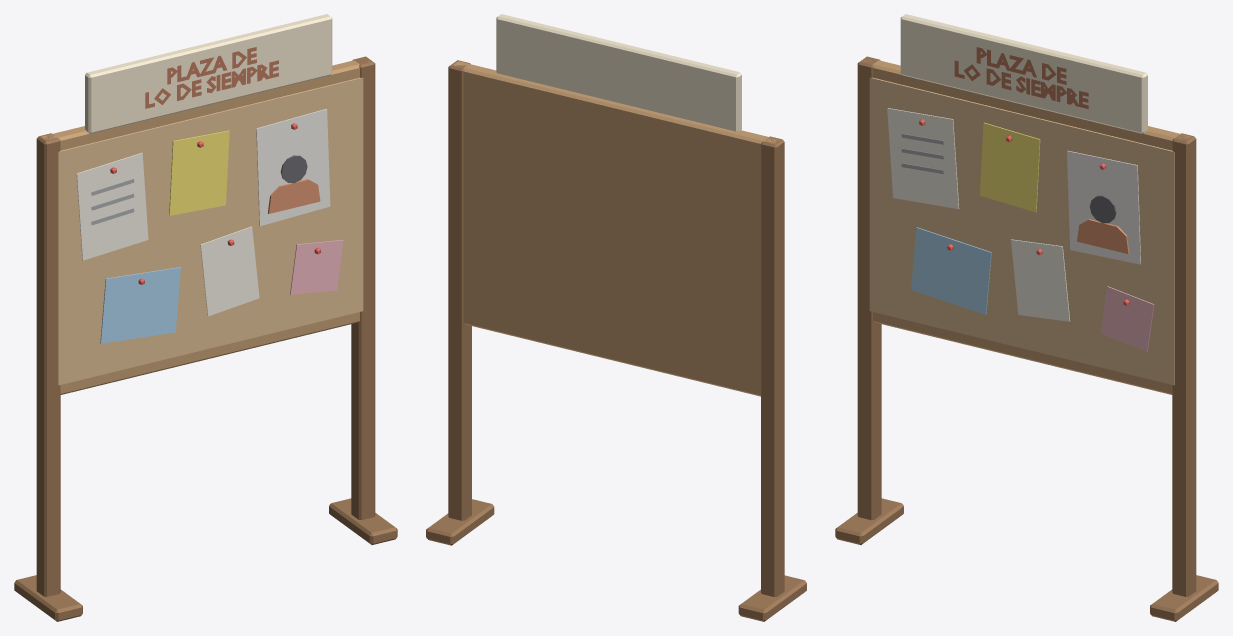
File: prop_noticeboard_01.glb
The picture shows the model from 3 angles, left to right: view 1: azimuth 30°, elevation 25°; view 2: azimuth 150°, elevation 25°; view 3: azimuth 330°, elevation 25°; orthographic projection.
Visible parts, largest first — view 1: prop_noticeboard_01_body; view 2: prop_noticeboard_01_body; view 3: prop_noticeboard_01_body.
Boxes of the visible parts, <box> form: prop_noticeboard_01_body: <box>14,14,397,621</box>; prop_noticeboard_01_body: <box>426,14,806,621</box>; prop_noticeboard_01_body: <box>835,14,1218,621</box>.
Bounding box in the file's own units: 1.46 × 2.13 × 0.32.
